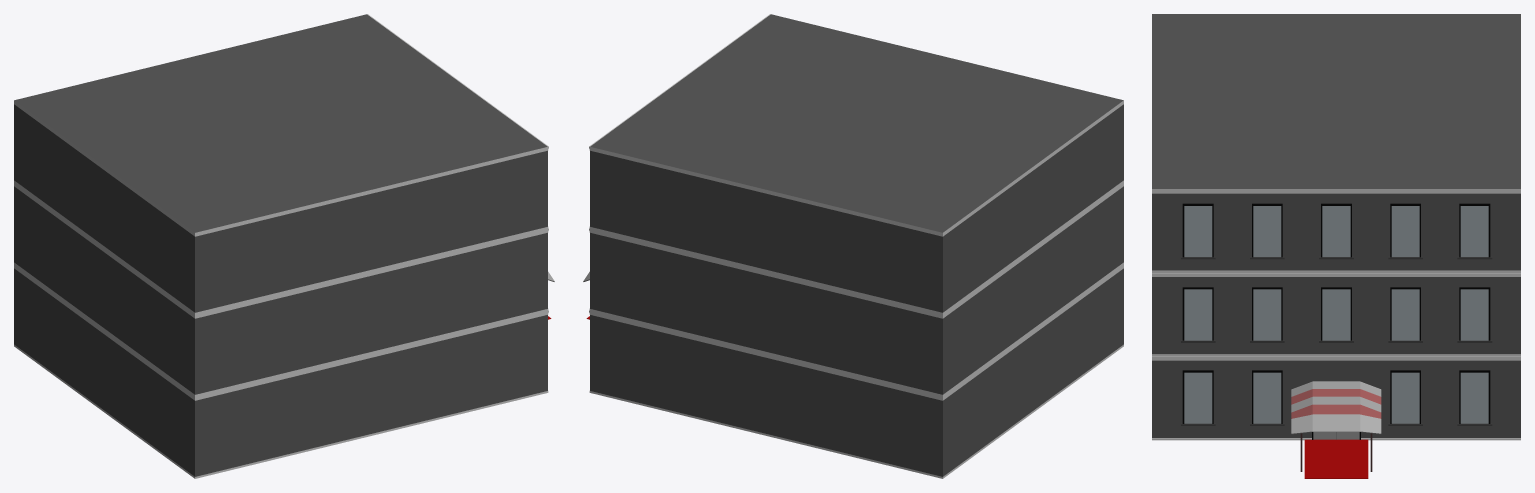
File: Building_7.fbx
3 renders of one model, left to right at view 1: azimuth 30°, elevation 25°; view 2: azimuth 150°, elevation 25°; view 3: azimuth 270°, elevation 25°, orthographic.
Visible parts, largest first — view 1: pCube53; view 2: pCube53; view 3: pCube53.
Part boxes in pixels (x1=…): pCube53: x1=14, y1=14, x2=554, y2=478; pCube53: x1=583, y1=14, x2=1123, y2=478; pCube53: x1=1152, y1=14, x2=1520, y2=478.
Bounding box in the file's own units: 27.5 × 15 × 20.
